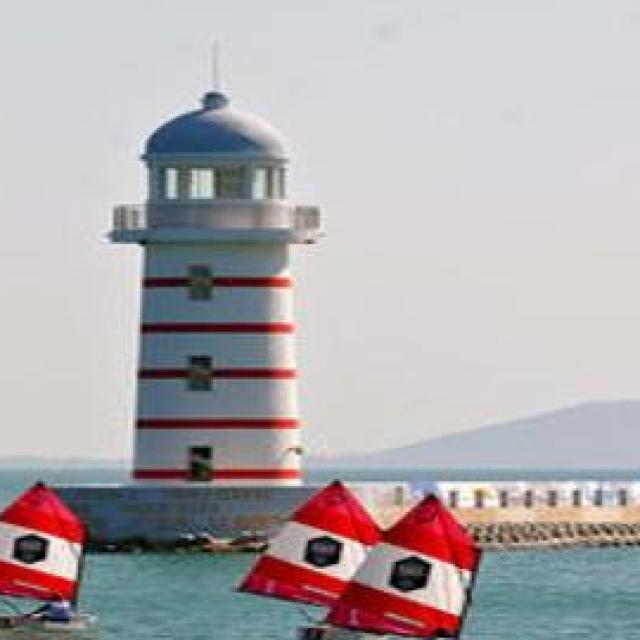sailboat: (242, 474, 386, 640), (344, 490, 494, 640), (0, 484, 95, 626)
